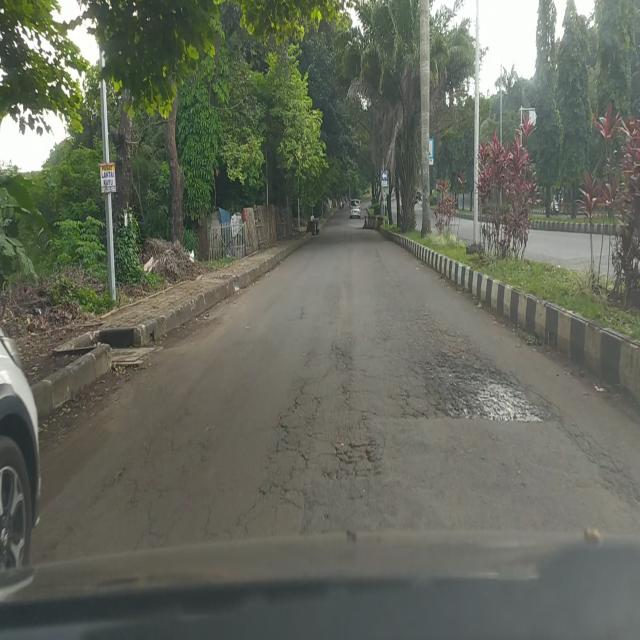Drain Hole: (248, 341, 384, 504), (399, 330, 556, 420), (131, 427, 233, 552)
